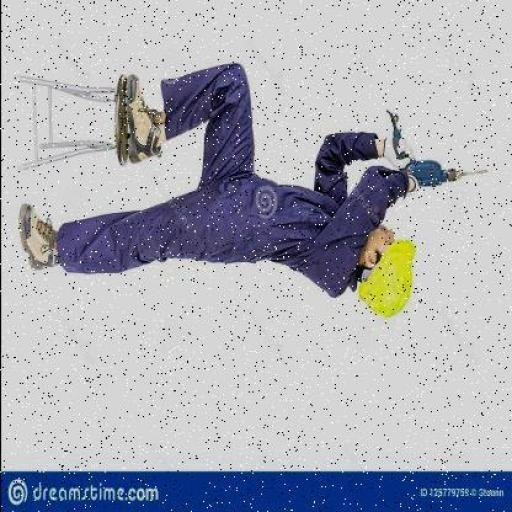person: (13, 60, 414, 326)
safety_shoe: (16, 198, 63, 281), (122, 69, 160, 165)
